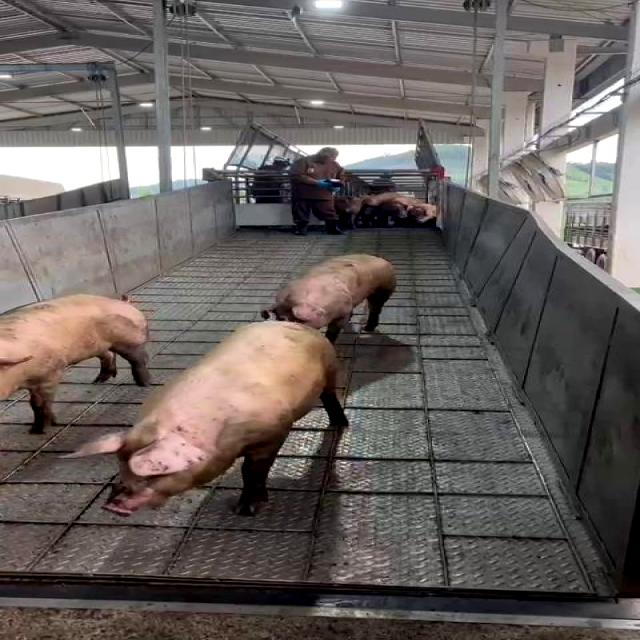pig: (72, 320, 347, 514), (1, 295, 150, 431), (266, 255, 395, 339)
